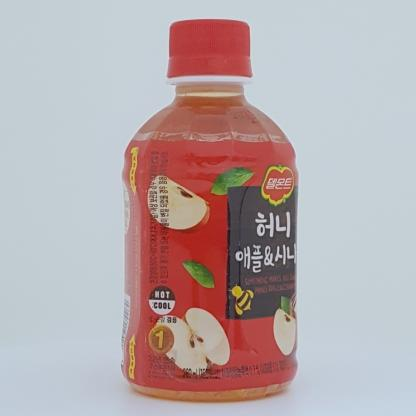----------280ML: (120, 19, 298, 402)
